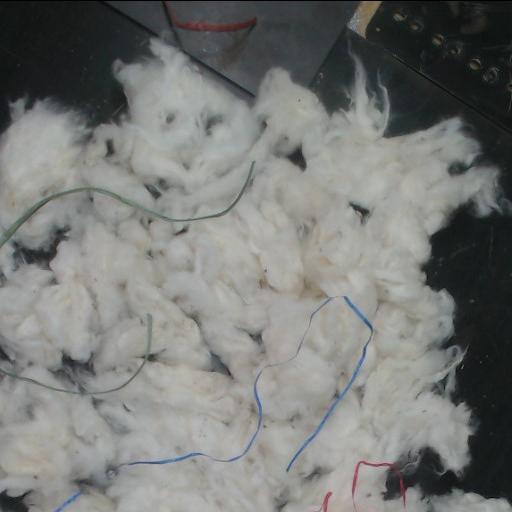conveyor belt: (0, 1, 511, 195), (405, 210, 511, 497), (16, 245, 54, 265), (0, 493, 27, 512)
cotton: (0, 38, 511, 512)
thread: (0, 162, 254, 248), (116, 363, 279, 467), (285, 295, 373, 471), (0, 314, 152, 396), (351, 461, 406, 512), (162, 1, 239, 31), (52, 490, 81, 512), (317, 491, 333, 512)
